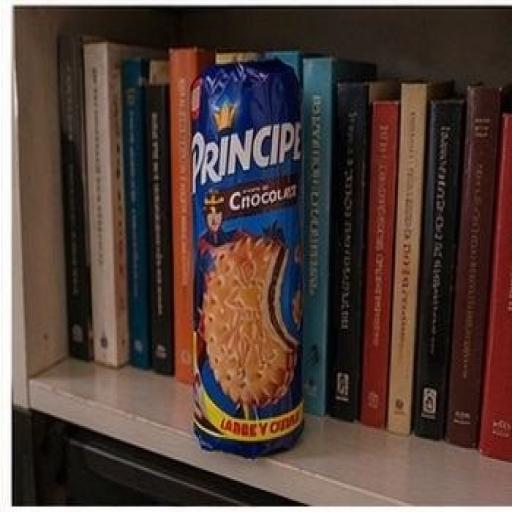prince: (130, 42, 375, 486)
